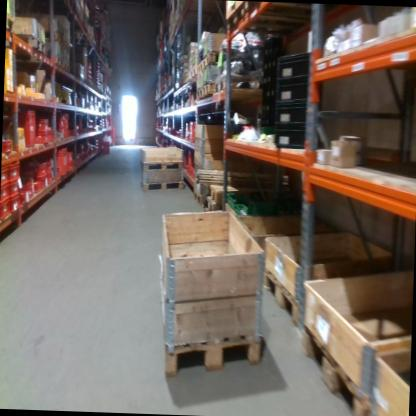pallet: (165, 277, 266, 380), (298, 327, 371, 416), (263, 267, 302, 319), (11, 28, 47, 55), (139, 174, 184, 194), (226, 3, 256, 32), (141, 156, 185, 175), (203, 51, 231, 74), (208, 183, 239, 203), (204, 197, 227, 217), (41, 31, 63, 50), (42, 53, 64, 68), (203, 83, 219, 101), (193, 192, 209, 209), (7, 9, 15, 38), (190, 63, 200, 83), (196, 85, 206, 104), (62, 41, 74, 54), (60, 62, 71, 74), (197, 61, 205, 77), (184, 72, 191, 86)
small_load_carrier: (275, 49, 324, 80), (273, 100, 324, 126), (274, 78, 324, 100), (12, 106, 38, 147), (272, 124, 315, 145), (47, 146, 69, 178), (21, 160, 47, 185), (0, 163, 10, 191), (0, 182, 10, 206), (21, 188, 34, 206), (10, 162, 22, 181), (9, 180, 23, 196), (63, 112, 71, 139), (23, 179, 39, 192), (187, 149, 194, 175), (1, 201, 9, 223), (3, 140, 13, 156), (37, 119, 48, 133), (10, 194, 21, 206), (51, 112, 65, 121), (37, 132, 48, 142), (100, 141, 109, 153), (39, 177, 46, 191), (45, 160, 53, 172), (47, 132, 54, 144), (57, 121, 66, 130), (190, 122, 197, 133), (190, 168, 196, 180), (49, 171, 57, 179), (191, 133, 197, 142)
